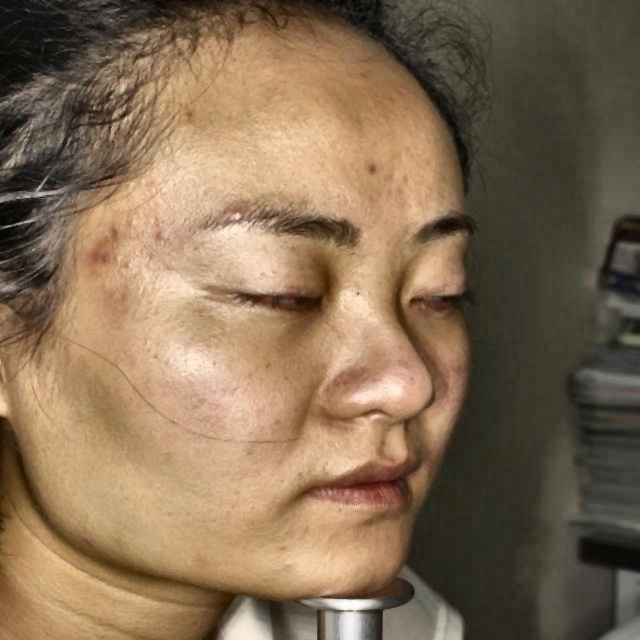comedone: (90, 222, 124, 278), (357, 150, 385, 178)
